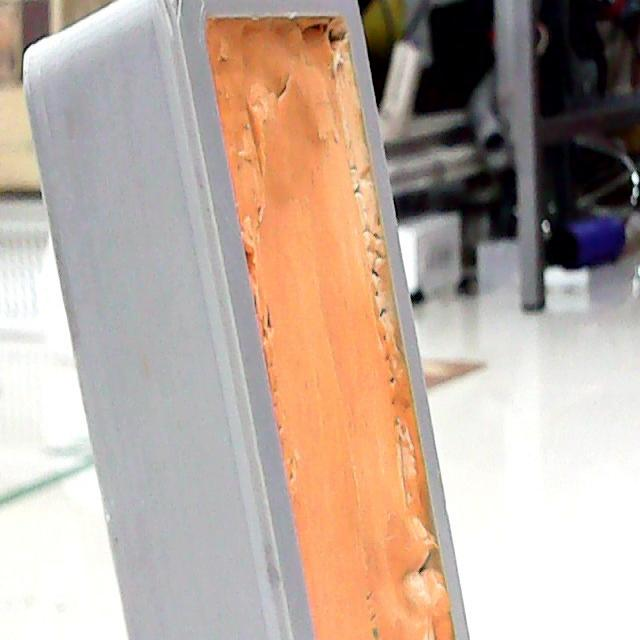block: (11, 0, 482, 640)
